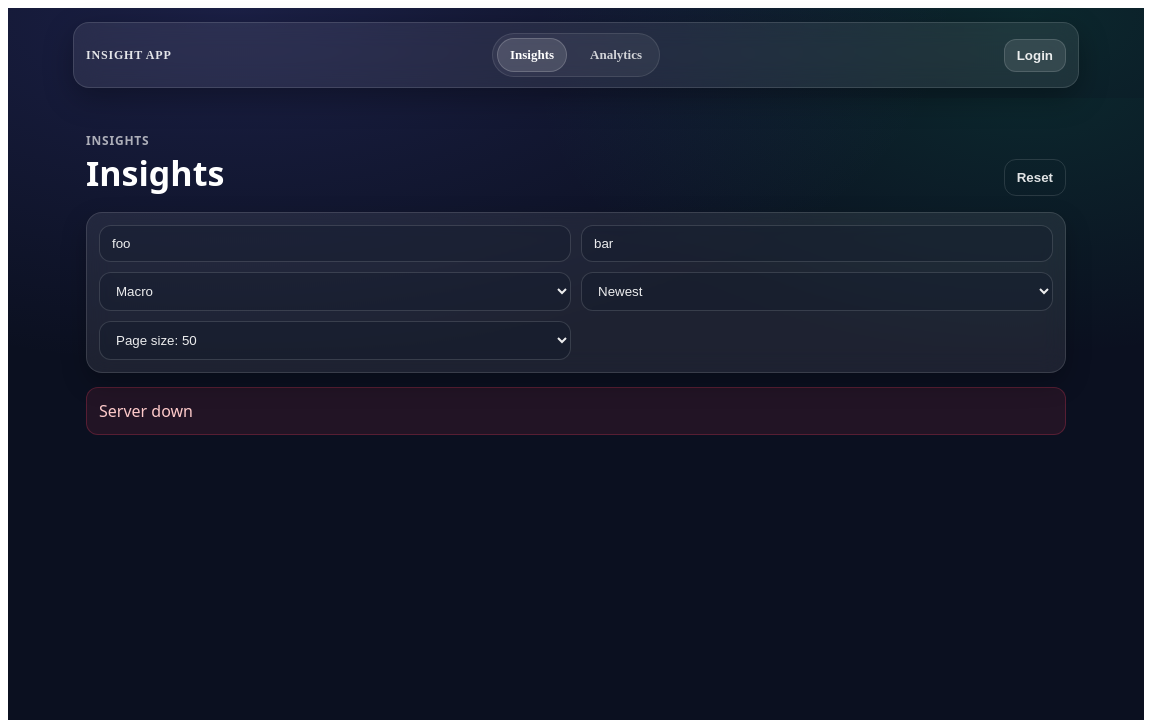
Scenario: InsightsListPage branch coverage › renders error state on API failure; reset clears filters; renders empty state when no results
Check: the text "Server down" is shown, box [86,387,1066,435]
Click the button "Reset" at (1035, 178), box [1004,159,1066,196]
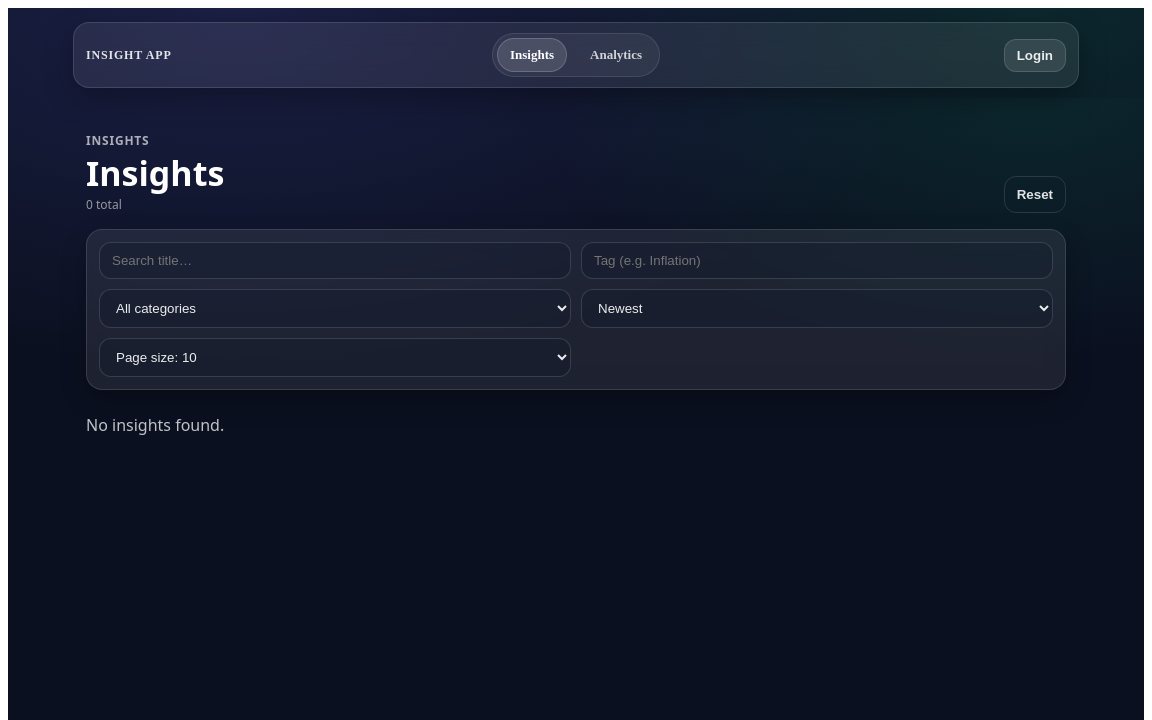
Check: the text "No insights found." is shown, box [86,414,224,436]
Check: the field with placeholder "Search title…" is empty, box [99,242,571,279]
Check: the field with placeholder "Tag (e.g. Inflation)" is empty, box [581,242,1053,279]
